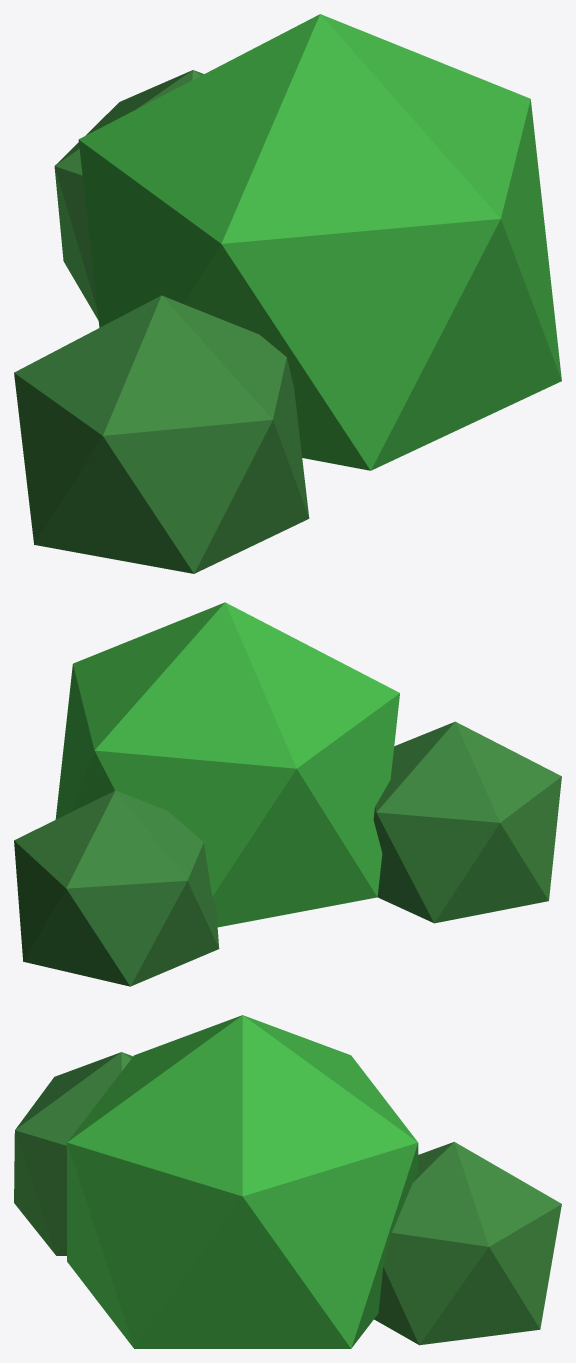
The model's file is SmallBush.fbx.
The picture shows the model from 3 angles, top to bottom: view 1: azimuth 30°, elevation 25°; view 2: azimuth 150°, elevation 25°; view 3: azimuth 270°, elevation 25°; orthographic projection. The views are drawn at different scales.
Parts seen in each view (by area): view 1: Icosphere, Icosphere.002, Icosphere.004; view 2: Icosphere, Icosphere.004, Icosphere.002; view 3: Icosphere, Icosphere.004, Icosphere.002.
Boxes of the visible parts, <box> form: Icosphere: <box>78,14,561,470</box>; Icosphere.002: <box>14,295,309,573</box>; Icosphere.004: <box>54,70,203,320</box>; Icosphere: <box>55,602,399,927</box>; Icosphere.004: <box>14,790,219,986</box>; Icosphere.002: <box>373,721,561,923</box>; Icosphere: <box>67,1015,418,1348</box>; Icosphere.004: <box>374,1141,561,1345</box>; Icosphere.002: <box>14,1052,132,1255</box>.
Bounding box in the file's own units: 245 × 161 × 265.
